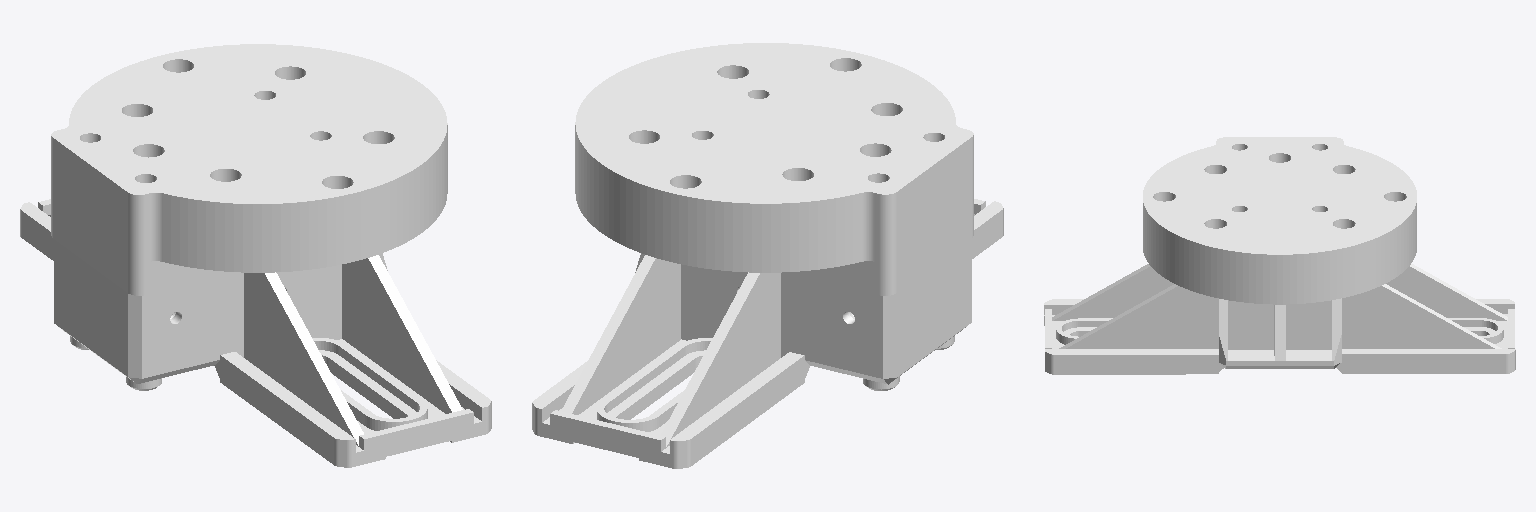
robot.urdf — lite6:
<robot name="lite6">

    <material name="White">
      <color rgba="1.0 1.0 1.0 1.0"/>
    </material>

    <material name="Silver">
      <color rgba="0.753 0.753 0.753 1.0"/>
    </material>

    <link name="link_base">
      <inertial>
        <origin
          xyz="-0.00829544579053192 3.26357432323433E-05 0.0631194584987089"
          rpy="0 0 0" />
        <mass
          value="2.11" />
        <inertia
          ixx="0"
          ixy="0"
          ixz="0"
          iyy="0"
          iyz="0"
          izz="0" />
      </inertial>
      <visual>
        <origin
          xyz="0 0 0"
          rpy="0 0 0" />
        <geometry>
          <mesh filename="package://xarm_description/meshes/lite6/visual/base.stl"/>
        </geometry>
        <material name="White" />
      </visual>
      <collision>
        <origin
          xyz="0 0 0"
          rpy="0 0 0" />
        <geometry>
          <mesh filename="package://xarm_description/meshes/lite6/collision/base.stl"/>
        </geometry>
      </collision>
    </link>
    <link name="link1">
      <inertial>
        <origin
          xyz="-0.00036 0.042 -0.0025"
          rpy="0 0 0" />
        <mass
          value="1.411" />
        <inertia
          ixx="1.45164E-03"
          ixy="1.24E-05"
          ixz="-6.7E-06"
          iyy="8.873E-04"
          iyz="1.255E-04"
          izz="1.31993E-03" />
      </inertial>
      <visual>
        <origin
          xyz="0 0 0"
          rpy="0 0 0" />
        <geometry>
          <mesh filename="package://xarm_description/meshes/lite6/visual/link1.stl"/>
        </geometry>
        <material name="White" />
      </visual>
      <collision>
        <origin
          xyz="0 0 0"
          rpy="0 0 0" />
        <geometry>
          <mesh filename="package://xarm_description/meshes/lite6/collision/link1.stl"/>
        </geometry>
      </collision>
    </link>
    <joint name="joint1" type="revolute">
      <origin
        xyz="0 0 0.2433"
        rpy="0 0 0" />
      <parent
        link="link_base" />
      <child
        link="link1" />
      <axis
        xyz="0 0 1" />
      <limit
        lower="-6.28"
        upper="6.28"
        effort="32.0"
        velocity="3.14"/>
      <dynamics damping="1.0" friction="1.0"/>
    </joint>
    <link name="link2">
      <inertial>
        <origin
          xyz="0.179 0.0 0.0584"
          rpy="0 0 0" />
        <mass
          value="1.34" />
        <inertia
          ixx="1.5854E-03"
          ixy="-6.766E-06"
          ixz="-1.15136E-03"
          iyy="5.6097E-03"
          iyz="1.14E-06"
          izz="4.85E-03" />
      </inertial>
      <visual>
        <origin
          xyz="0 0 0"
          rpy="0 0 0" />
        <geometry>
          <mesh filename="package://xarm_description/meshes/lite6/visual/link2.stl"/>
        </geometry>
        <material name="White" />
      </visual>
      <collision>
        <origin
          xyz="0 0 0"
          rpy="0 0 0" />
        <geometry>
          <mesh filename="package://xarm_description/meshes/lite6/collision/link2.stl"/>
        </geometry>
      </collision>
    </link>
    <joint name="joint2" type="revolute">
      <origin
        xyz="0 0 0"
        rpy="1.5708 -1.5708 3.1416" />
      <parent
        link="link1" />
      <child
        link="link2" />
      <axis
        xyz="0 0 1" />
      <limit
        lower="-2.61799"
        upper="2.61799"
        effort="32.0"
        velocity="3.14"/>
      <dynamics damping="1.0" friction="1.0"/>
    </joint>
    <link name="link3">
      <inertial>
        <origin
          xyz="0.072 -0.036 -0.001"
          rpy="0 0 0" />
        <mass
          value="0.953" />
        <inertia
          ixx="8.861E-04"
          ixy="-3.9287E-04"
          ixz="7.066E-05"
          iyy="1.5785E-03"
          iyz="-2.445E-05"
          izz="1.84677E-03" />
      </inertial>
      <visual>
        <origin
          xyz="0 0 0"
          rpy="0 0 0" />
        <geometry>
          <mesh filename="package://xarm_description/meshes/lite6/visual/link3.stl"/>
        </geometry>
        <material name="White" />
      </visual>
      <collision>
        <origin
          xyz="0 0 0"
          rpy="0 0 0" />
        <geometry>
          <mesh filename="package://xarm_description/meshes/lite6/collision/link3.stl"/>
        </geometry>
      </collision>
    </link>
    <joint name="joint3" type="revolute">
      <origin
        xyz="0.2 0 0"
        rpy="-3.1416 0 1.5708" />
      <parent
        link="link2" />
      <child
        link="link3" />
      <axis
        xyz="0 0 1" />
      <limit
        lower="-0.061087"
        upper="5.235988"
        effort="18.0"
        velocity="3.14"/>
      <dynamics damping="1.0" friction="1.0"/>
    </joint>
    <link name="link4">
      <inertial>
        <origin
          xyz="-0.002 -0.0285 -0.0813"
          rpy="0 0 0" />
        <mass
          value="1.284" />
        <inertia
          ixx="3.705E-03"
          ixy="-2.0E-06"
          ixz="7.17E-06"
          iyy="3.0455E-03"
          iyz="-9.3188E-04"
          izz="1.5413E-03" />
      </inertial>
      <visual>
        <origin
          xyz="0 0 0"
          rpy="0 0 0" />
        <geometry>
          <mesh filename="package://xarm_description/meshes/lite6/visual/link4.stl"/>
        </geometry>
        <material name="White" />
      </visual>
      <collision>
        <origin
          xyz="0 0 0"
          rpy="0 0 0" />
        <geometry>
          <mesh filename="package://xarm_description/meshes/lite6/collision/link4.stl"/>
        </geometry>
      </collision>
    </link>
    <joint name="joint4" type="revolute">
      <origin
        xyz="0.087 -0.2276 0"
        rpy="1.5708 0 0" />
      <parent
        link="link3" />
      <child
        link="link4" />
      <axis
        xyz="0 0 1" />
      <limit
        lower="-6.28"
        upper="6.28"
        effort="2.5"
        velocity="3.14"/>
      <dynamics damping="0.1" friction="0.1"/>
    </joint>
    <link name="link5">
      <inertial>
        <origin
          xyz="0.0 0.010 0.0019"
          rpy="0 0 0" />
        <mass
          value="0.804" />
        <inertia
          ixx="5.668E-04"
          ixy="6E-07"
          ixz="-5.3E-06"
          iyy="5.077E-04"
          iyz="-4.8E-07"
          izz="5.3E-04" />
      </inertial>
      <visual>
        <origin
          xyz="0 0 0"
          rpy="0 0 0" />
        <geometry>
          <mesh filename="package://xarm_description/meshes/lite6/visual/link5.stl"/>
        </geometry>
        <material name="Silver" />
      </visual>
      <collision>
        <origin
          xyz="0 0 0"
          rpy="0 0 0" />
        <geometry>
          <mesh filename="package://xarm_description/meshes/lite6/collision/link5.stl"/>
        </geometry>
      </collision>
    </link>
    <joint name="joint5" type="revolute">
      <origin
        xyz="0 0 0"
        rpy="1.5708 0 0" />
      <parent
        link="link4" />
      <child
        link="link5" />
      <axis
        xyz="0 0 1" />
      <limit
        lower="-2.1642"
        upper="2.1642"
        effort="2.5"
        velocity="3.14"/>
      <dynamics damping="0.1" friction="0.1"/>
    </joint>
    <link name="link6">
      <inertial>
        <origin
          xyz="0.0 -0.00194 -0.0102"
          rpy="0 0 0" />
        <mass
          value="0.180" />
        <inertia
          ixx="7.726E-05"
          ixy="1E-06"
          ixz="4E-07"
          iyy="8.5665E-05"
          iyz="-6E-07"
          izz="1.4814E-04" />
      </inertial>
      <visual>
        <origin
          xyz="0 0 0"
          rpy="0 0 0" />
        <geometry>
          <mesh filename="package://xarm_description/meshes/lite6/visual/link6.stl"/>
        </geometry>
        <material name="Silver" />
      </visual>
      <collision>
        <origin
          xyz="0 0 0"
          rpy="0 0 0" />
        <geometry>
          <mesh filename="package://xarm_description/meshes/lite6/collision/link6.stl"/>
        </geometry>
      </collision>
    </link>
    
    
    <joint name="joint6" type="revolute">
      <origin
        xyz="0 0.0615 0"
        rpy="-1.5708 0 0" />
      <parent
        link="link5" />
      <child
        link="link6" />
      <axis
        xyz="0 0 1" />
      <limit
        lower="-6.28"
        upper="6.28"
        effort="2.5"
        velocity="3.14"/>
      <dynamics damping="0.1" friction="0.1"/>
    </joint>
    
 
    

<!-- Coupler + Gripper Base -->
  <link name="lite6_gripper_link">
    <inertial>
      <origin xyz="0 0 0" rpy="0 0 0" />
      <mass value="0.05" />
      <inertia ixx="1.0e-05" ixy="0" ixz="0"
               iyy="1.0e-05" iyz="0"
               izz="1.0e-05" />
    </inertial>

    <visual>
      <origin xyz="0 0 0.01500" rpy="0 -3.14159 0" />
      <geometry>
        <mesh filename="package://xarm_description/meshes/lite6/visual/coupler.stl" scale="0.001 0.001 0.001" />
      </geometry>
      <material name="White"/>
    </visual>

    <collision>
      <origin xyz="0 0 0.01500" rpy="0 -3.14159 0" />
      <geometry>
        <mesh filename="package://xarm_description/meshes/lite6/collision/coupler.stl" scale="0.001 0.001 0.001" />
      </geometry>
    </collision>

    <visual>
      <origin xyz="0.21 0 -0.1491" rpy="0 -1.5708 0" />
      <geometry>
        <mesh filename="package://xarm_description/meshes/lite6/visual/omx_gripper_base.stl" />
      </geometry>
      <material name="White"/>
    </visual>

    <collision>
      <origin xyz="0.21 0 -0.1491" rpy="0 -1.5708 0" />
      <geometry>
        <mesh filename="package://xarm_description/meshes/lite6/collision/omx_gripper_base.stl" />
      </geometry>
    </collision>
  </link>

  <joint name="joint_gripper_mount" type="fixed">
    <origin xyz="0 0 0" rpy="0 0 0" />
    <parent link="link6"/>
    <child link="lite6_gripper_link"/>
  </joint>

  <!-- Left Finger -->
  <link name="omx_gripper_left_finger_link">
    <inertial>
      <origin xyz="0 0 -0.0191" rpy="0 0 0" />
      <mass value="0.001" />
      <inertia ixx="1.0e-06" ixy="0" ixz="0"
               iyy="1.0e-06" iyz="0"
               izz="1.0e-06" />
    </inertial>
    <visual>
      <origin xyz="0 0 -0.0191" rpy="0 -1.5708 0" />
      <geometry>
        <mesh filename="package://xarm_description/meshes/lite6/visual/omx_gripper_left_finger.stl" scale="0.001 0.001 0.001"/>
      </geometry>
      <material name="White" />
    </visual>
    <collision>
      <origin xyz="0 0 -0.0191" rpy="0 -1.5708 0" />
      <geometry>
        <mesh filename="package://xarm_description/meshes/lite6/collision/omx_gripper_left_finger.stl" scale="0.001 0.001 0.001"/>
      </geometry>
    </collision>
  </link>

  <joint name="left_finger_joint" type="prismatic">
    <origin xyz="0.0 0.021 0.0817" rpy="0 0 0"/>
    <parent link="lite6_gripper_link" />
    <child link="omx_gripper_left_finger_link" />
    <axis xyz="0 1 0" />
    <limit velocity="4.8" effort="1" lower="-0.010" upper="0.019" />
    <mimic joint="right_finger_joint" multiplier="-1" offset="0" />
    <dynamics damping="0.1"/>
  </joint>

  <!-- Right Finger -->
  <link name="omx_gripper_right_finger_link">
    <inertial>
      <origin xyz="0 0 -0.0191" rpy="0 0 0" />
      <mass value="0.001" />
      <inertia ixx="1.0e-06" ixy="0" ixz="0"
               iyy="1.0e-06" iyz="0"
               izz="1.0e-06" />
    </inertial>
    <visual>
      <origin xyz="0 0 -0.0191" rpy="0 -1.5708 0" />
      <geometry>
        <mesh filename="package://xarm_description/meshes/lite6/visual/omx_gripper_right_finger.stl" scale="0.001 0.001 0.001"/>
      </geometry>
      <material name="White" />
    </visual>
    <collision>
      <origin xyz="0 0 -0.0191" rpy="0 -1.5708 0" />
      <geometry>
        <mesh filename="package://xarm_description/meshes/lite6/collision/omx_gripper_right_finger.stl" scale="0.001 0.001 0.001"/>
      </geometry>
    </collision>
  </link>

  <joint name="right_finger_joint" type="prismatic">
    <origin xyz="0.0 -0.021 0.0817" rpy="0 0 0"/>
    <parent link="lite6_gripper_link" />
    <child link="omx_gripper_right_finger_link" />
    <axis xyz="0 -1 0"/>
    <limit velocity="4.8" effort="1" lower="-0.010" upper="0.019" />
    <dynamics damping="0.1"/>
  </joint>

  <!-- End Effector Placeholder -->
  <link name="link_eef"/>
  <joint name="joint_eef" type="fixed">
    <origin xyz="0 0 0" rpy="0 0 0" />
    <parent link="lite6_gripper_link" />
    <child link="link_eef" />
  </joint>
  
</robot>

--- What the picture shows (computed from the rendered views, not written in the file) ---
The picture shows the robot from 3 angles, left to right: view 1: azimuth 30°, elevation 25°; view 2: azimuth 150°, elevation 25°; view 3: azimuth 270°, elevation 25°; orthographic projection.
Robot: lite6 — 11 links, 10 joints (6 revolute, 2 prismatic, 2 fixed); root link link_base; default pose: all joints at 0.
Links seen in each view (by area): view 1: lite6_gripper_link; view 2: lite6_gripper_link; view 3: lite6_gripper_link.
Boxes of the visible links, left/top/right/bottom form: lite6_gripper_link: left=20, top=44, right=491, bottom=467; lite6_gripper_link: left=532, top=43, right=1003, bottom=468; lite6_gripper_link: left=1044, top=137, right=1515, bottom=374.
Size in the robot's own frame: 0.0758 by 0.1286 by 0.0463 metres.
Meshes: 11 distinct files referenced, 2 mesh visuals loaded (2 binary STL); not drawn: 9 (reference not matched to a file when rendering).